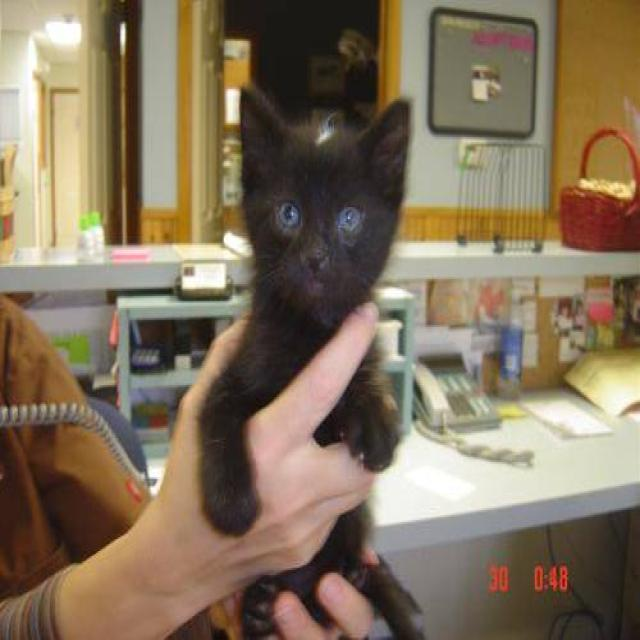cat: (195, 81, 426, 638)
